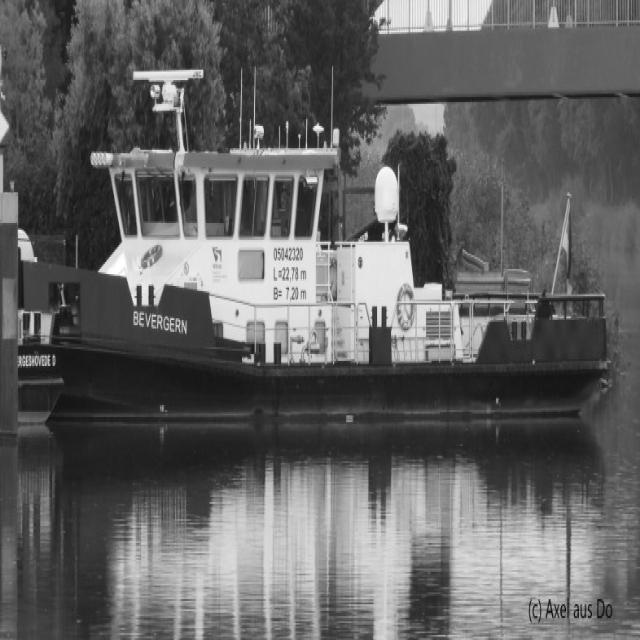tugboat: (16, 66, 616, 444)
